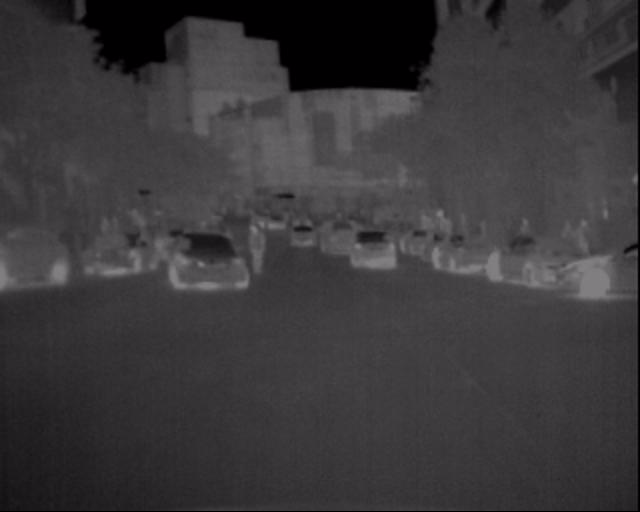person: (247, 217, 275, 275), (571, 211, 599, 262), (557, 211, 582, 254), (578, 212, 601, 254)
